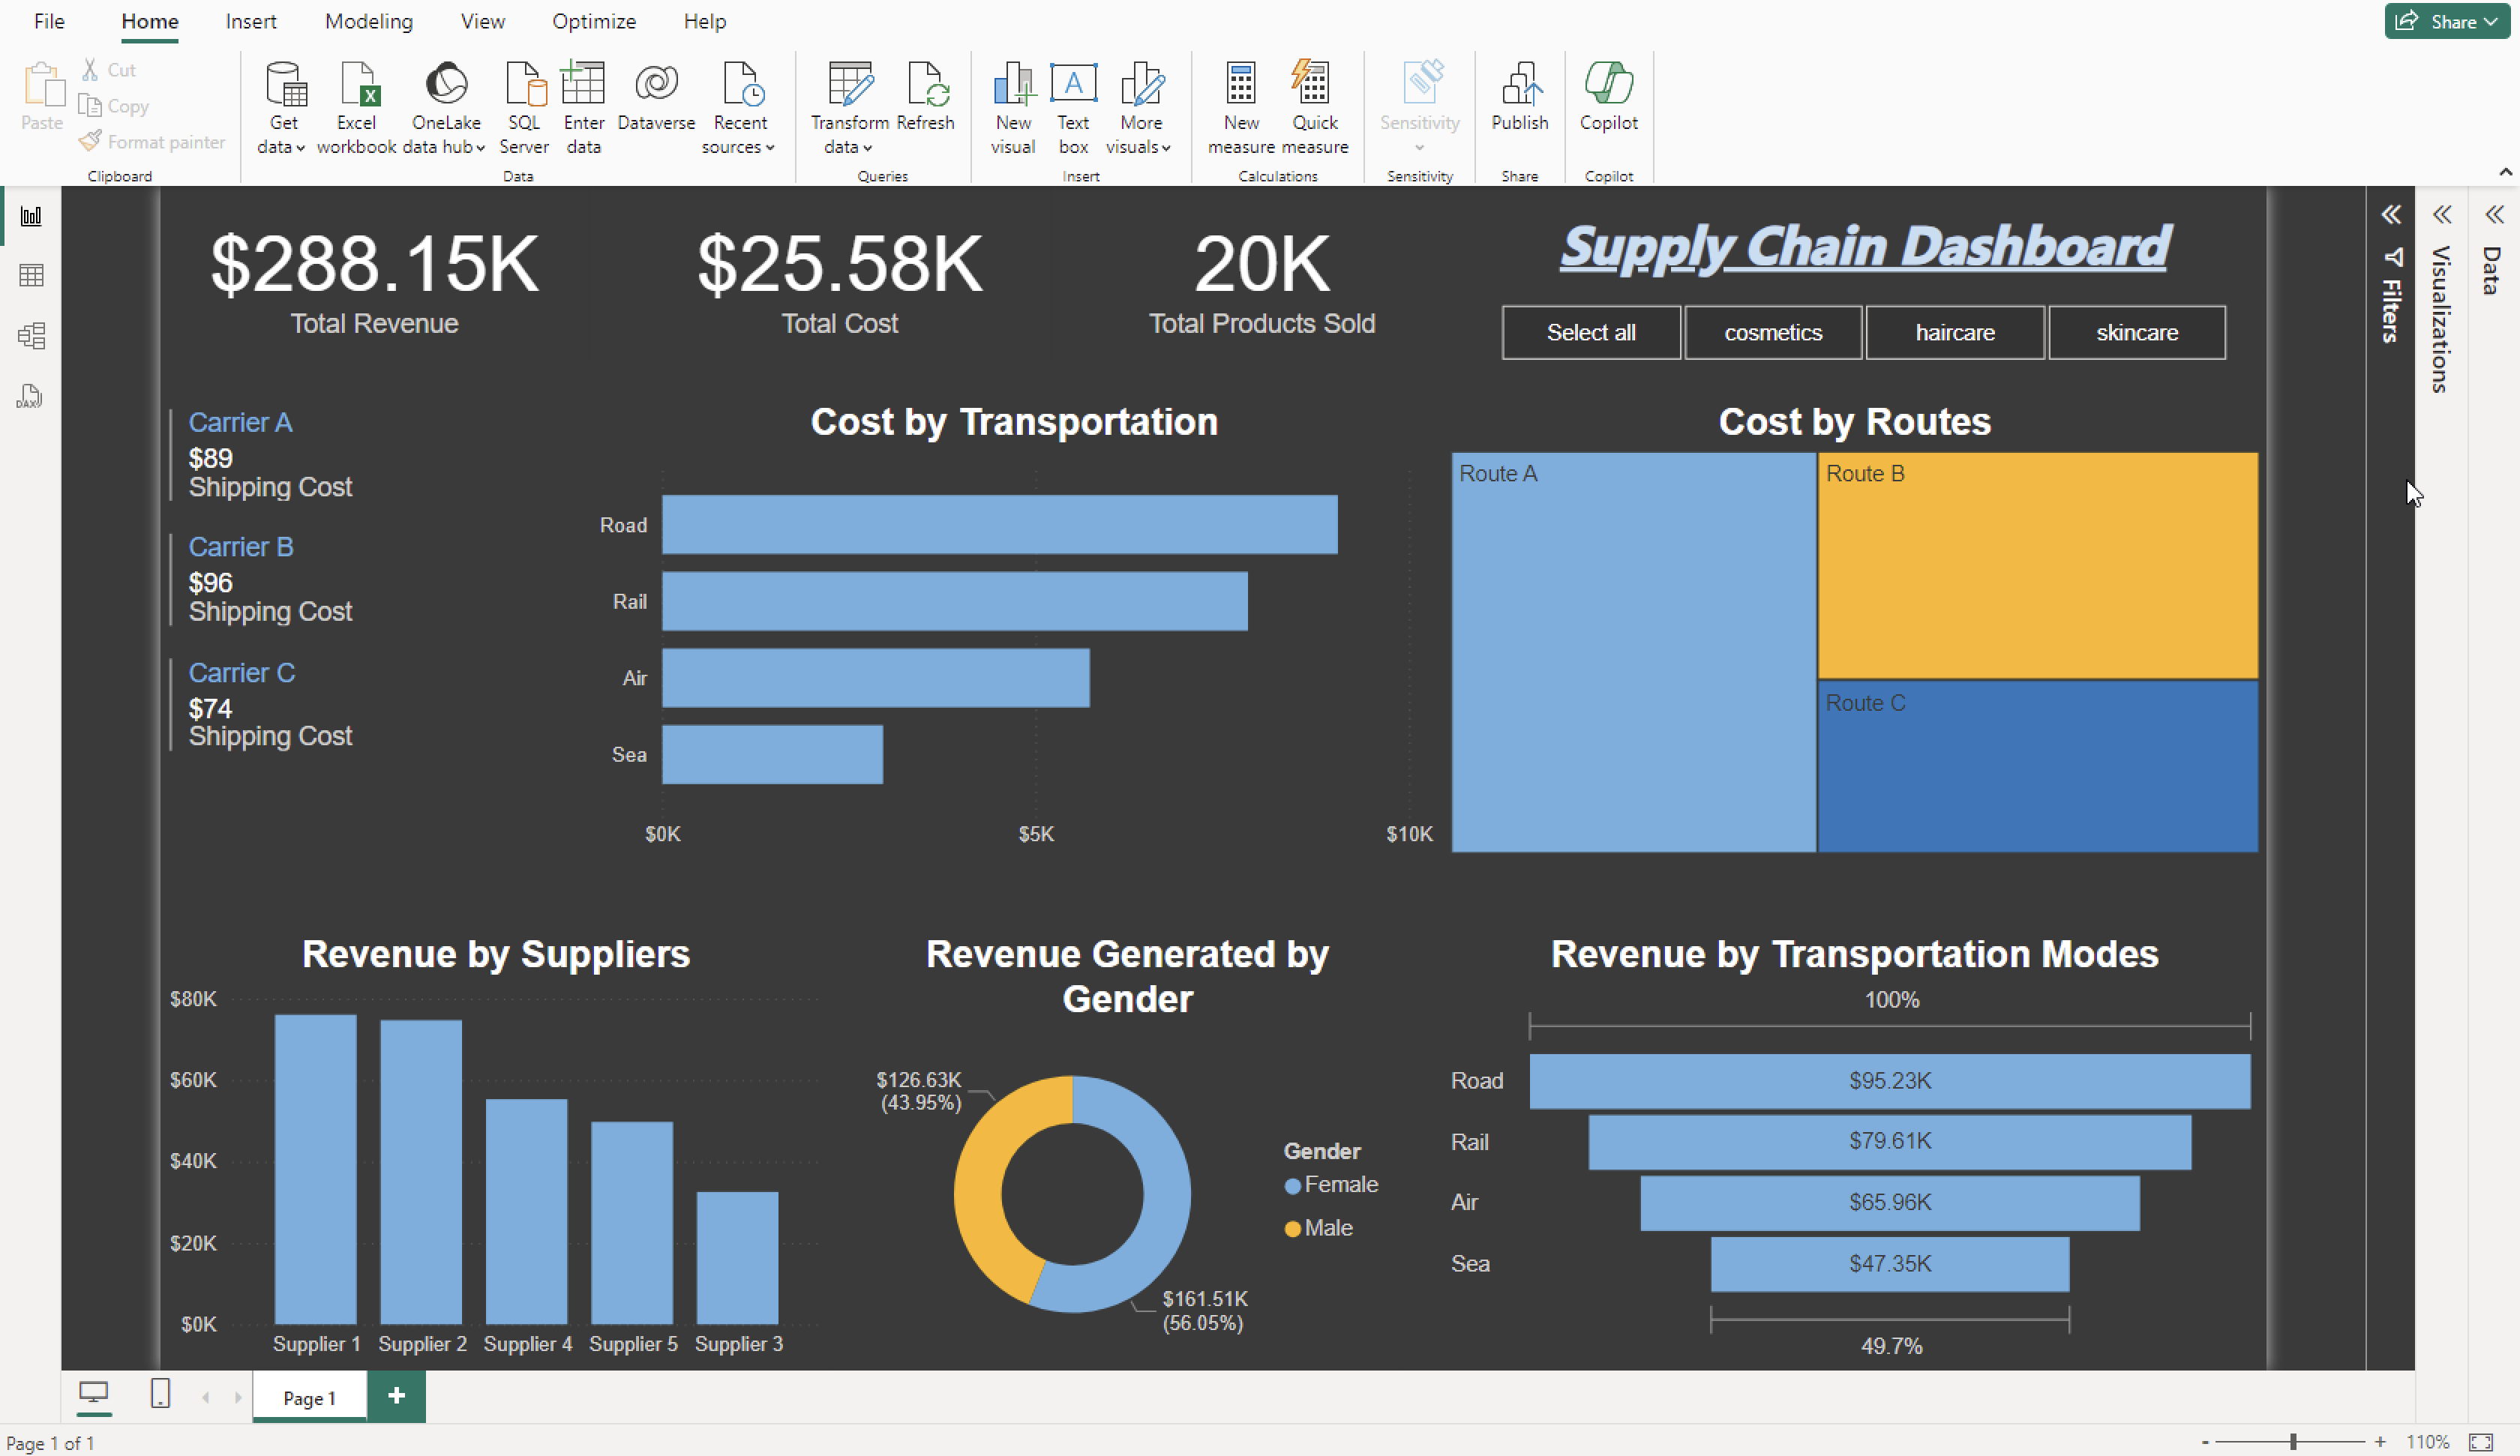

Layout of this report page (visuals, bound fields, positions):
{"tool":"powerbi","page":{"name":"Page 1","canvas":[1280,720],"ordinal":0},"visuals":[{"type":"card","fields":{"Values":["Sum(supply_chain_data.Revenue generated)"]},"box":[0,0,260.1,106.6],"z":0},{"type":"card","fields":{"Values":["Sum(supply_chain_data.Costs)"]},"box":[284.5,0,256.9,106.8],"z":1},{"type":"card","fields":{"Values":["Sum(supply_chain_data.Number of products sold)"]},"box":[560.7,0,218.2,106.6],"z":2},{"type":"clusteredBarChart","title":"Cost by Transportation","fields":{"Category":["supply_chain_data.Transportation modes"],"Y":["Sum(supply_chain_data.Costs)"]},"box":[260.1,130.7,518.9,280.4],"z":4},{"type":"treemap","title":"Cost by Routes","fields":{"Group":["supply_chain_data.Routes"],"Values":["Sum(supply_chain_data.Costs)"]},"box":[778.9,130.4,501.1,280.4],"z":5},{"type":"donutChart","title":"Revenue Generated by Gender","fields":{"Category":["supply_chain_data.Gender"],"Y":["Sum(supply_chain_data.Revenue generated)"]},"box":[420.8,453.9,333.3,266.1],"z":6},{"type":"funnel","title":"Revenue by Transportation Modes","fields":{"Category":["supply_chain_data.Transportation modes"],"Y":["Sum(supply_chain_data.Revenue generated)"]},"box":[778.9,453.9,500.9,266.1],"z":7},{"type":"columnChart","title":"Revenue by Suppliers","fields":{"Category":["supply_chain_data.Supplier name"],"Y":["Sum(supply_chain_data.Revenue generated)"]},"box":[0,453.9,407.9,266.1],"z":8},{"type":"slicer","fields":{"Values":["supply_chain_data.Product type"]},"box":[789.5,65.3,490.5,46.8],"z":9},{"type":"multiRowCard","fields":{"Values":["supply_chain_data.Shipping carriers","Sum(supply_chain_data.Shipping costs)"]},"box":[0,130.7,229.6,280.4],"z":10},{"type":"textbox","box":[789.5,7.6,490.5,57.6],"z":11}]}

Visuals, with their boxes on the page's 1280x720 design canvas (x1, y1, x2, y2). These are canvas units, not pixel positions in the 2520x1456 screenshot, which may show the page scaled, cropped or inside an application window:
card - Sum(supply_chain_data.Revenue generated): Rect(0, 0, 260, 107)
card - Sum(supply_chain_data.Costs): Rect(284, 0, 541, 107)
card - Sum(supply_chain_data.Number of products sold): Rect(561, 0, 779, 107)
"Cost by Transportation" clusteredBarChart: Rect(260, 131, 779, 411)
"Cost by Routes" treemap: Rect(779, 130, 1280, 411)
"Revenue Generated by Gender" donutChart: Rect(421, 454, 754, 720)
"Revenue by Transportation Modes" funnel: Rect(779, 454, 1280, 720)
"Revenue by Suppliers" columnChart: Rect(0, 454, 408, 720)
slicer - supply_chain_data.Product type: Rect(790, 65, 1280, 112)
multiRowCard - supply_chain_data.Shipping carriers x Sum(supply_chain_data.Shipping costs): Rect(0, 131, 230, 411)
textbox: Rect(790, 8, 1280, 65)
